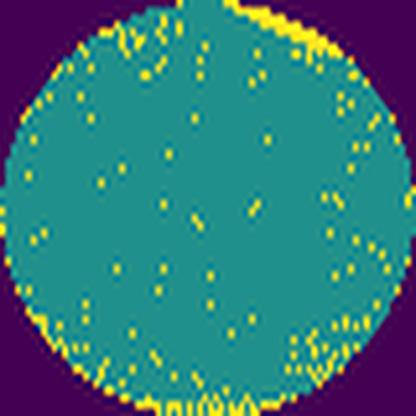Edge-Loc: (209, 0, 366, 70)
